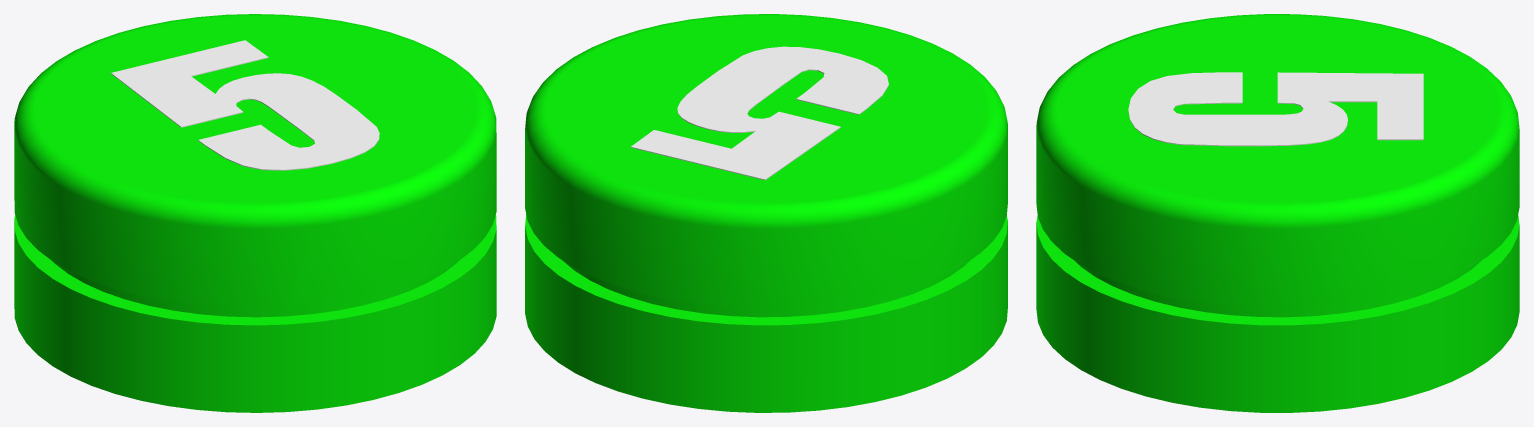
Rendered from nubot_frame5_green.dae.
3 views of the same model, side by side, from view 1: azimuth 30°, elevation 25°; view 2: azimuth 150°, elevation 25°; view 3: azimuth 270°, elevation 25° (orthographic).
Visible parts, largest first — view 1: SketchUp (×3), instance_0; view 2: SketchUp (×3), instance_0; view 3: SketchUp (×3), instance_0.
Part boxes in pixels (x1,y1,x2,y2): SketchUp (×3): [14, 14, 496, 412]; instance_0: [111, 40, 379, 170]; SketchUp (×3): [525, 14, 1007, 412]; instance_0: [631, 46, 888, 180]; SketchUp (×3): [1036, 14, 1519, 412]; instance_0: [1128, 72, 1423, 146].
Size of the model in its own units: 19.66 by 19.68 by 9.09.
